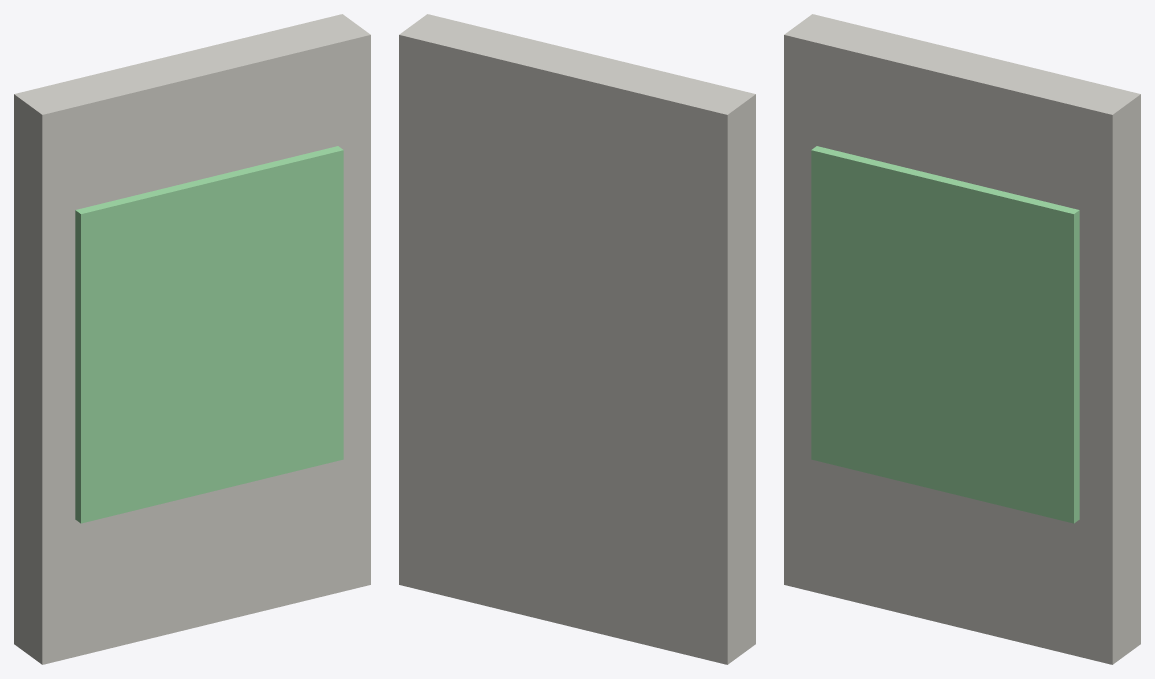
File: seed_packet_lettuce.glb
3 renders of one model, left to right at view 1: azimuth 30°, elevation 25°; view 2: azimuth 150°, elevation 25°; view 3: azimuth 330°, elevation 25°, orthographic.
Parts seen in each view (by area): view 1: SeedPacketLettuce; view 2: SeedPacketLettuce; view 3: SeedPacketLettuce.
Boxes of the visible parts, box(x1,y1,x2,y2) form: SeedPacketLettuce: box(14, 14, 370, 664); SeedPacketLettuce: box(399, 14, 755, 664); SeedPacketLettuce: box(784, 14, 1140, 664).
Bounding box in the file's own units: 0.1 × 0.16 × 0.018.
